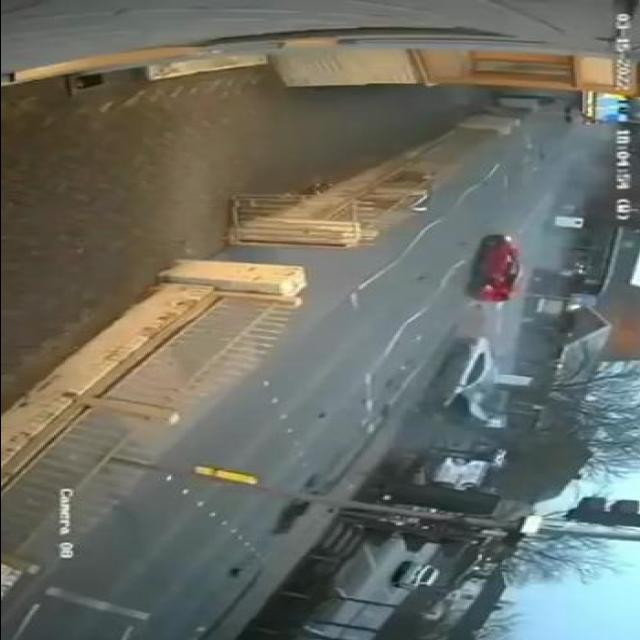accident: (405, 332, 520, 432), (457, 231, 535, 305)
